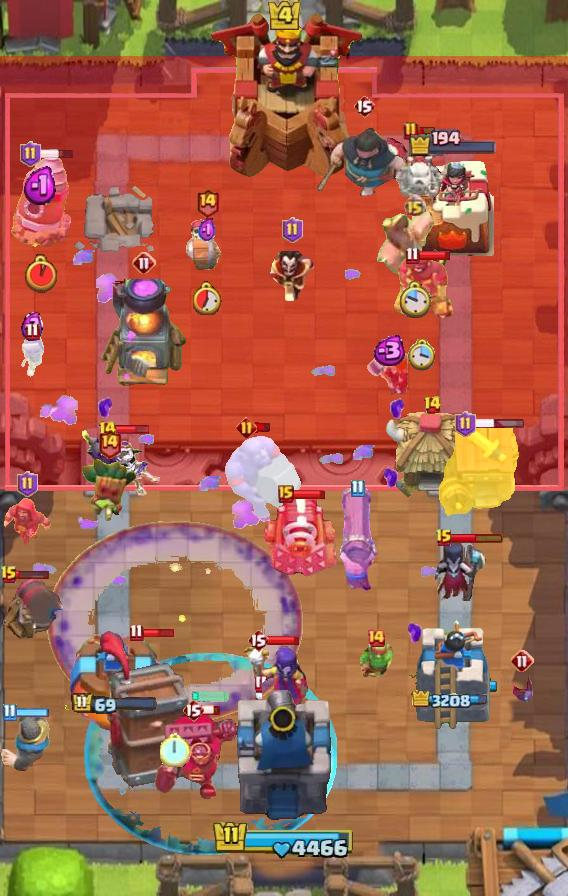archer-queen: (221, 433, 303, 521)
axe: (240, 643, 308, 711)
barbarian-barrel: (509, 674, 535, 704)
battle-healer: (334, 488, 380, 592)
bowler: (2, 496, 52, 550)
clock: (212, 819, 356, 861)
dart-goblin: (99, 630, 189, 788)
electro-spirit: (23, 166, 59, 206), (369, 335, 407, 365), (21, 310, 43, 341), (198, 216, 216, 243)
elixir: (397, 280, 430, 320), (25, 255, 57, 294), (161, 733, 191, 768), (193, 281, 222, 315), (408, 339, 436, 372)
emote: (451, 532, 504, 544), (473, 418, 525, 429), (38, 148, 75, 160), (14, 568, 50, 580), (140, 627, 176, 639), (14, 707, 50, 718), (114, 425, 149, 436), (417, 250, 451, 261), (292, 488, 326, 499), (266, 635, 300, 646), (201, 704, 221, 716), (416, 124, 436, 135), (256, 423, 273, 434)
firecracker: (1, 711, 52, 771)
freeze: (376, 211, 452, 277), (388, 252, 456, 324)
giant-snowball: (356, 637, 396, 677)
goblin: (17, 335, 47, 377)
goblin-ball: (78, 428, 162, 498)
goblin-barrel: (80, 457, 138, 523)
golem: (261, 490, 341, 582)
hog-rider: (365, 351, 411, 397)
hunter: (100, 279, 188, 389)
ice-spirit: (189, 691, 231, 703)
inferno-tower: (152, 711, 268, 803)
king-tower: (205, 11, 363, 181), (232, 686, 336, 826)
knight: (181, 218, 233, 272)
lumberjack: (266, 247, 318, 301)
magic-archer: (11, 154, 71, 248)
mini-pekka: (383, 136, 461, 200)
pad_0: (83, 653, 337, 859)
prince: (385, 410, 479, 500)
queen-tower: (409, 616, 497, 731), (68, 633, 160, 731), (412, 156, 494, 256)
rascal-boy: (432, 537, 488, 607)
rocket: (47, 521, 303, 725)
royal-giant-evolution: (0, 574, 68, 644)
royal-hog: (316, 123, 412, 199)
selected: (408, 129, 498, 157), (70, 692, 157, 716), (412, 690, 494, 712)
sparky: (439, 420, 525, 518)
text: (195, 186, 220, 217), (98, 429, 122, 460), (132, 251, 156, 275), (510, 649, 534, 673), (20, 141, 41, 167), (282, 217, 303, 243), (456, 411, 477, 437), (18, 471, 39, 497), (402, 195, 425, 218), (353, 94, 375, 118), (247, 628, 269, 652), (182, 698, 204, 722), (236, 418, 257, 439), (366, 628, 386, 648), (422, 395, 441, 415), (99, 420, 118, 440), (435, 528, 453, 548), (0, 565, 18, 585), (403, 121, 419, 141), (278, 485, 294, 503), (351, 479, 366, 497), (129, 623, 144, 641), (3, 703, 18, 721), (405, 246, 419, 265), (25, 323, 39, 342)
